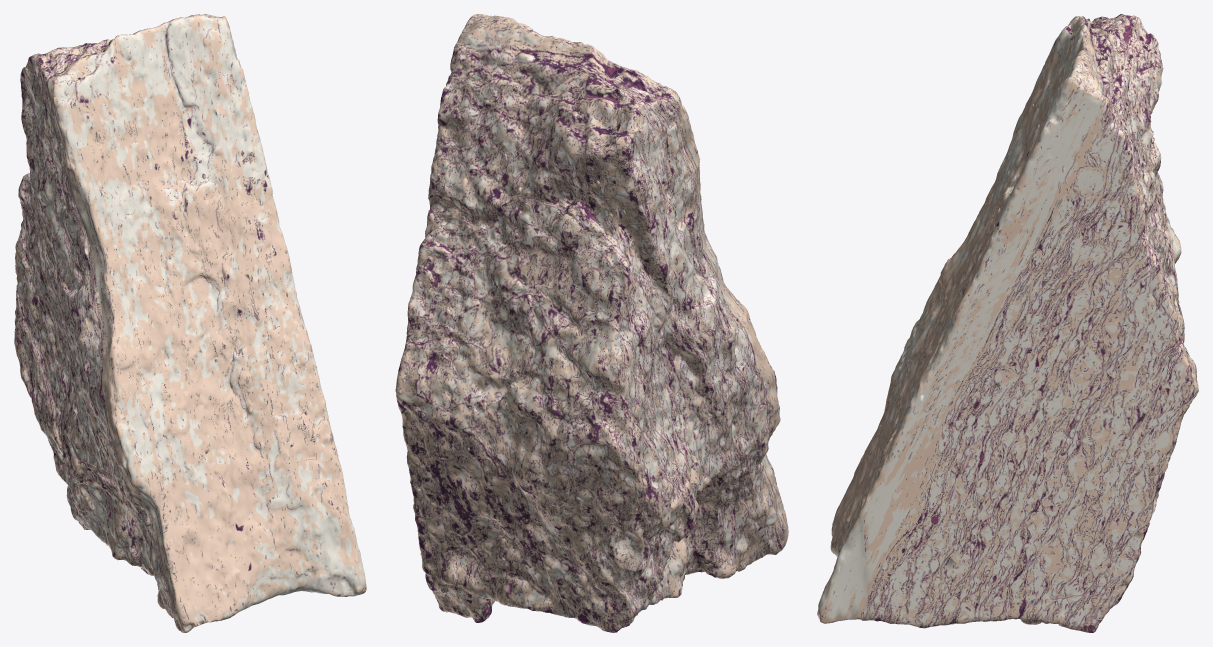
File: stylize color.glb
The picture shows the model from 3 angles, left to right: view 1: azimuth 30°, elevation 25°; view 2: azimuth 150°, elevation 25°; view 3: azimuth 270°, elevation 25°; orthographic projection. The views are drawn at different scales.
Visible parts, largest first — view 1: Metashape 100000 export; view 2: Metashape 100000 export; view 3: Metashape 100000 export.
Boxes of the visible parts, bbox=[...] form: Metashape 100000 export: bbox=[14, 14, 366, 632]; Metashape 100000 export: bbox=[395, 14, 788, 632]; Metashape 100000 export: bbox=[817, 14, 1198, 632].
Size of the model in its own units: 0.4947 by 1.17 by 0.7348.
Materials: 1 (1 with a texture image).
